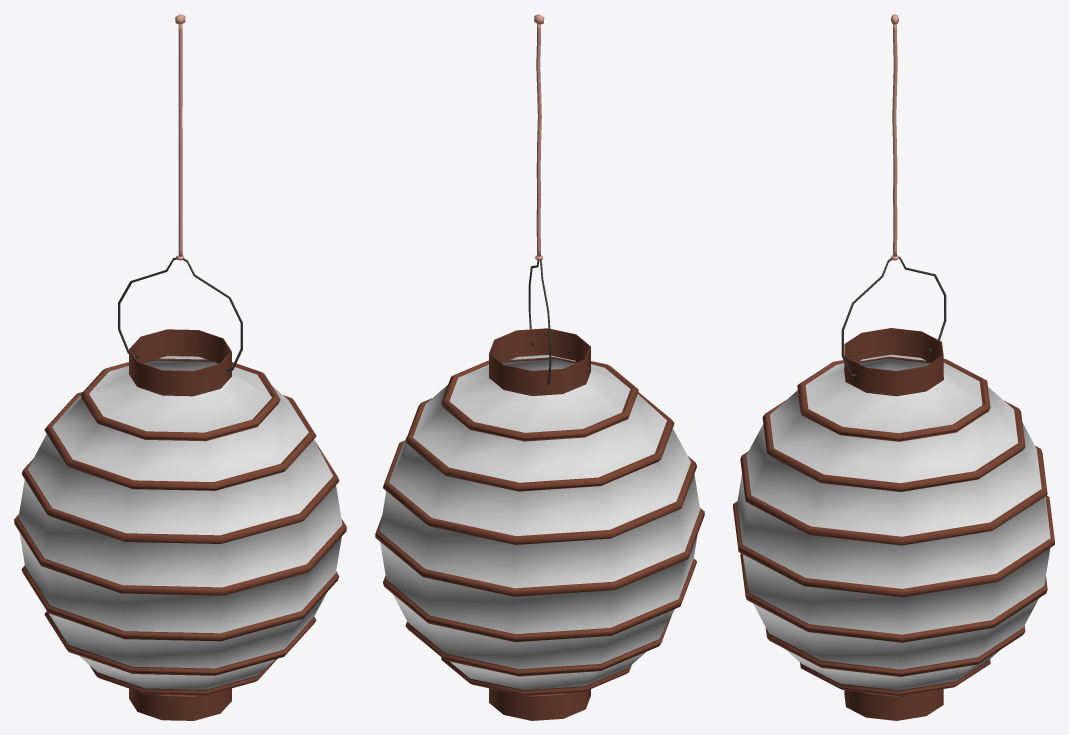
The model's file is LanternWithString.fbx.
3 renders of one model, left to right at view 1: azimuth 30°, elevation 25°; view 2: azimuth 150°, elevation 25°; view 3: azimuth 270°, elevation 25°, orthographic.
Parts seen in each view (by area): view 1: body; view 2: body; view 3: body.
Part boxes in pixels (x1,y1,x2,y2): body: (14,14,346,720); body: (375,14,704,720); body: (733,14,1054,720).
Bounding box in the file's own units: 36.28 × 82.5 × 35.09.
